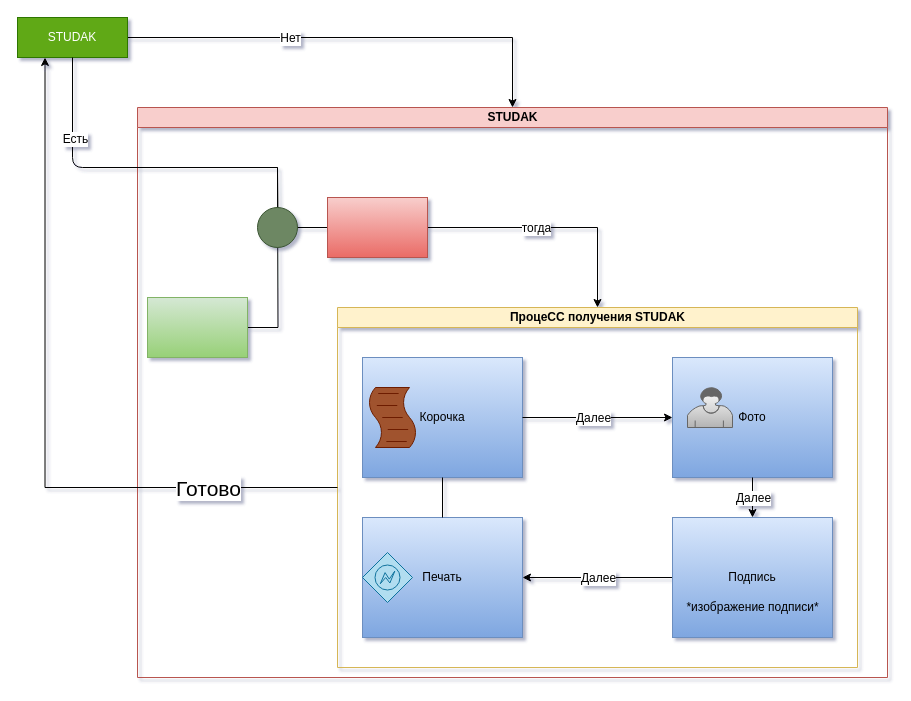
Some shapes in this 911 by 701 pixel diagram are drawn without their labels. Here are the shapes that lost their labels. From the top down, the centre of each, then its label:
point 277,227: если
point 377,227: Поменять STUDAK
point 197,327: Продлить STUDAK
